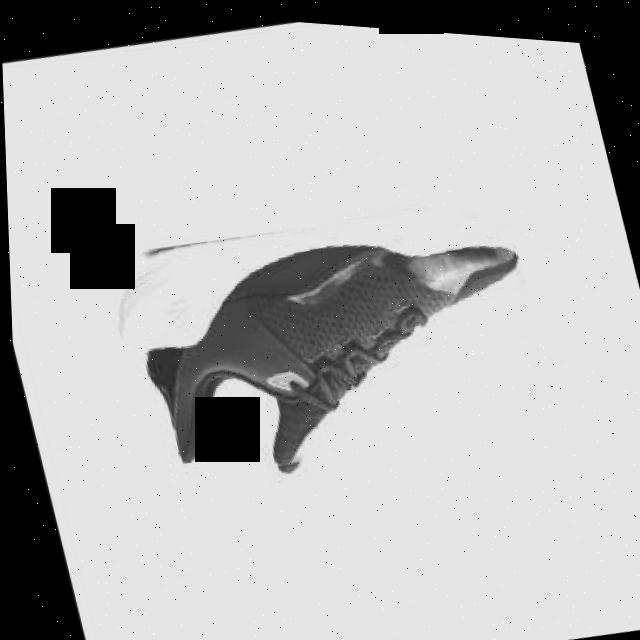shoe: (95, 167, 566, 513)
